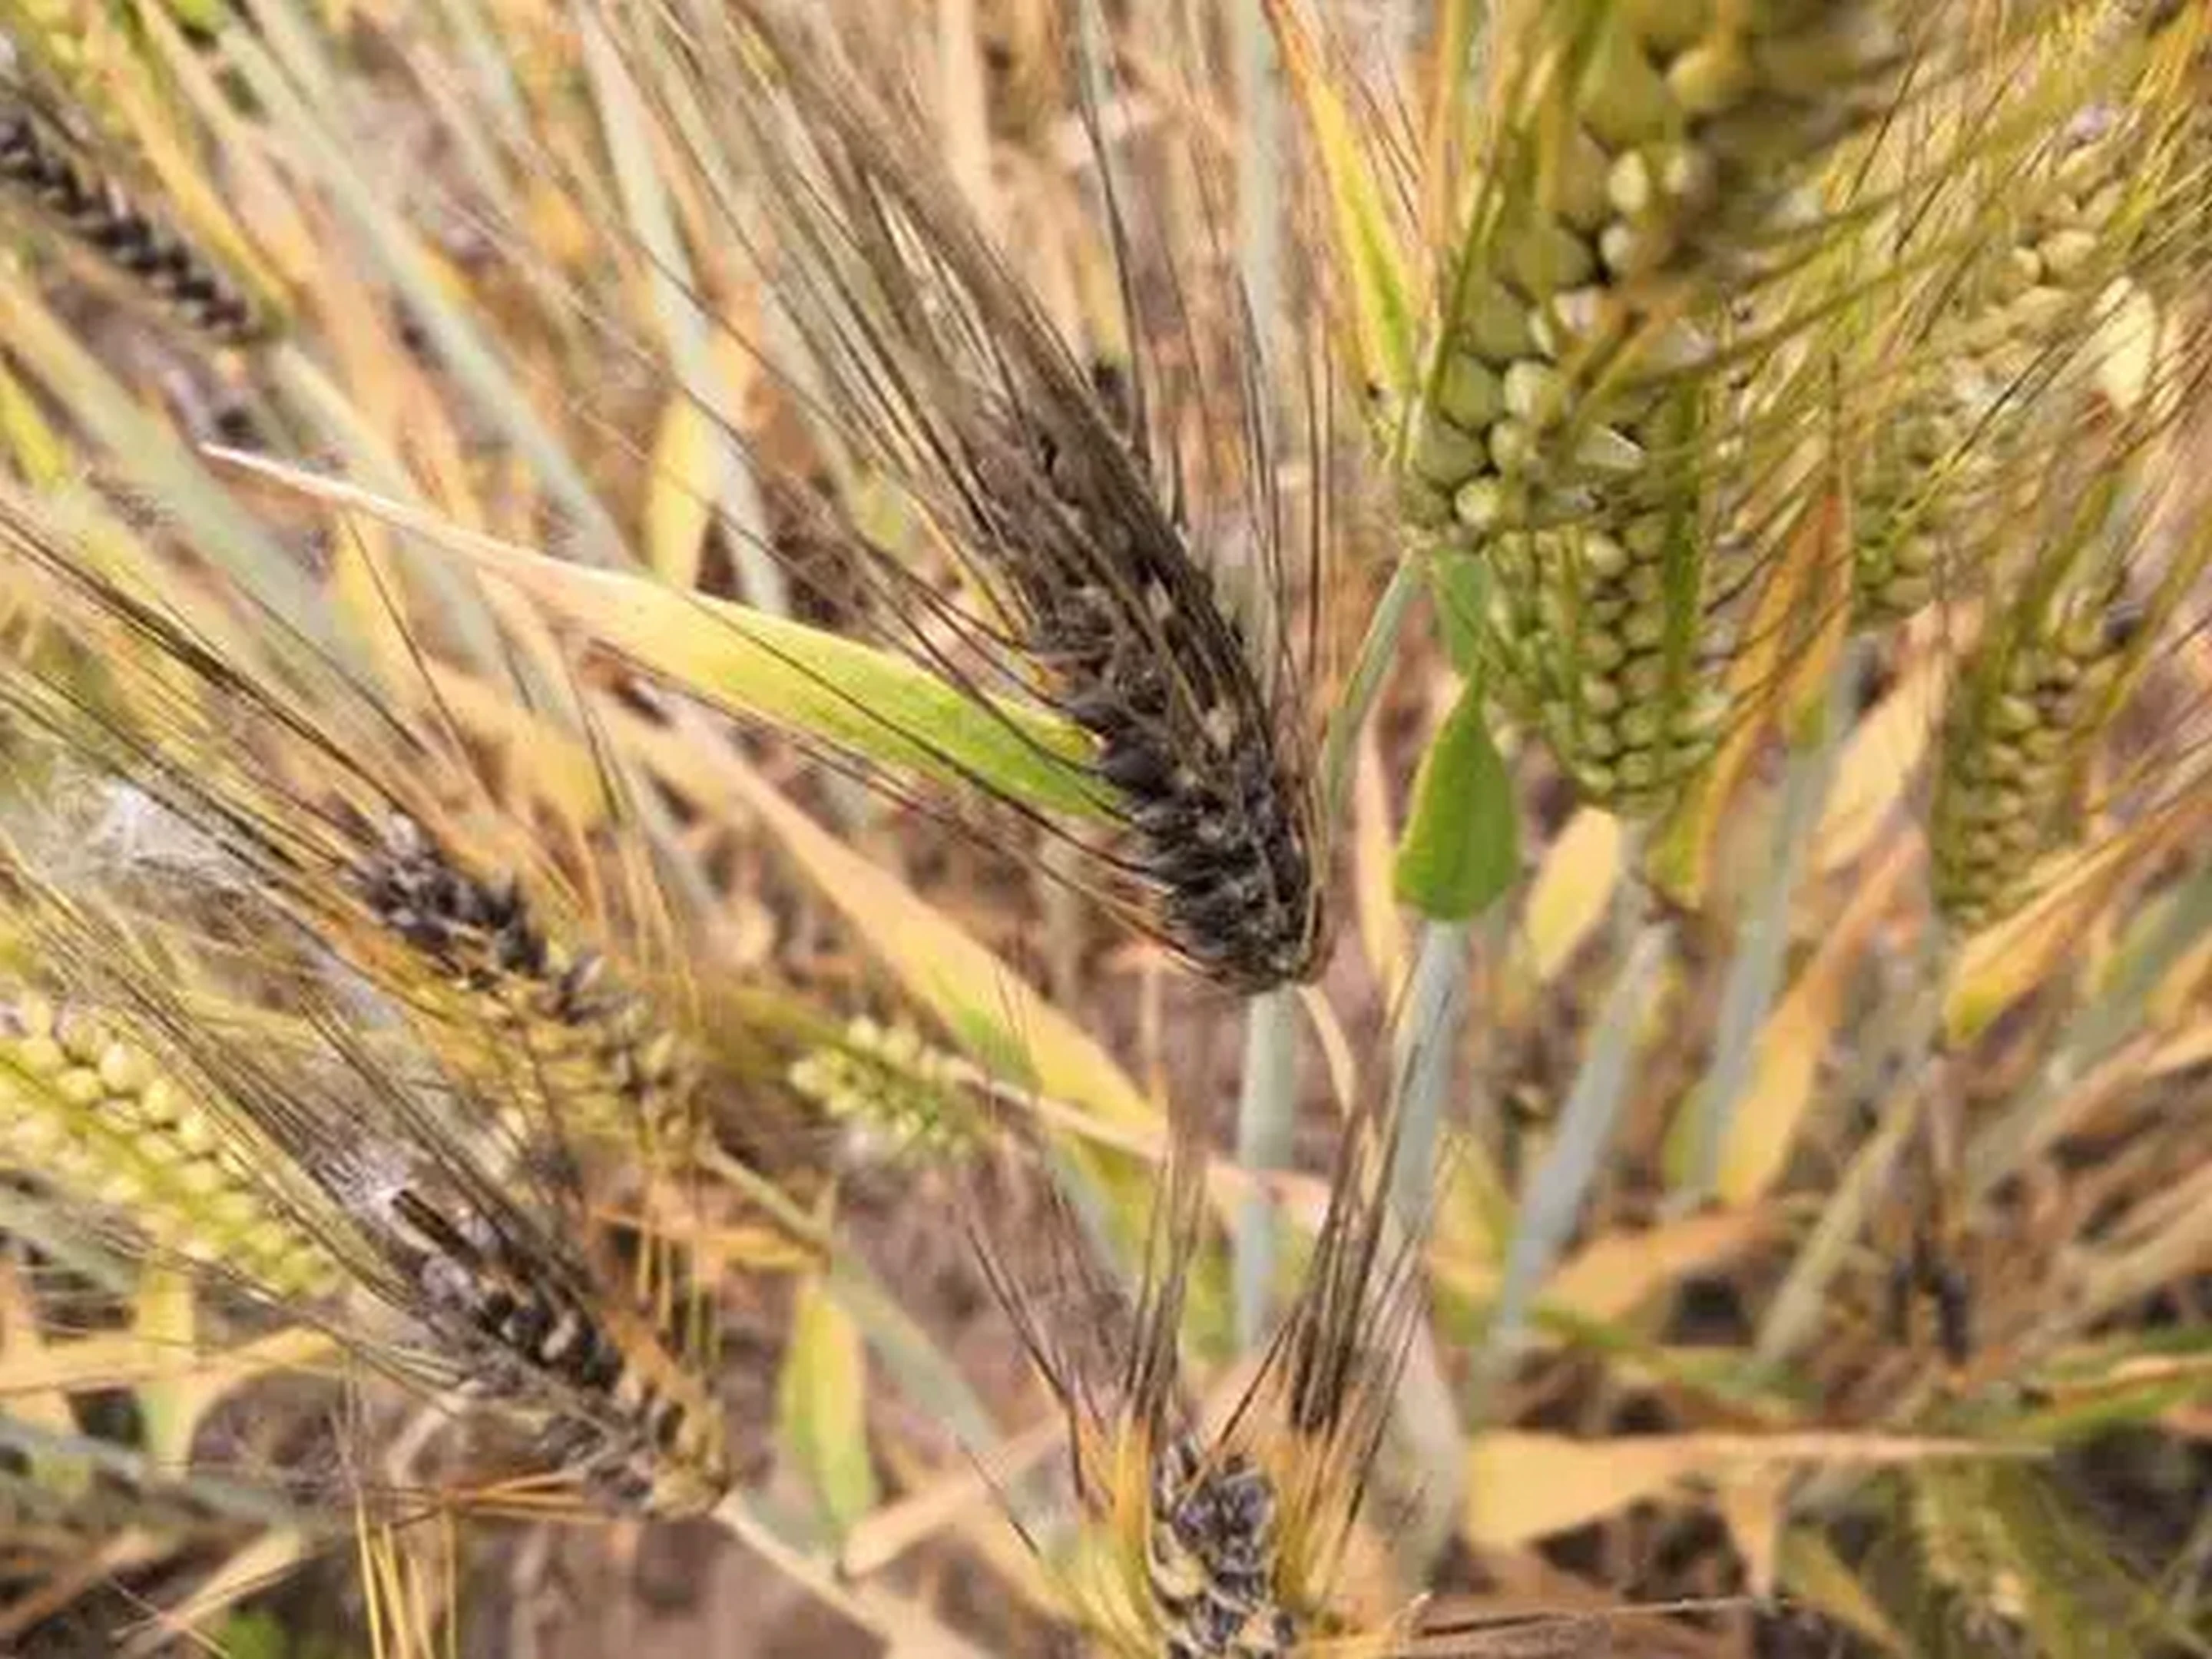Wheat Loose Smut: (939, 359, 1404, 1061)
